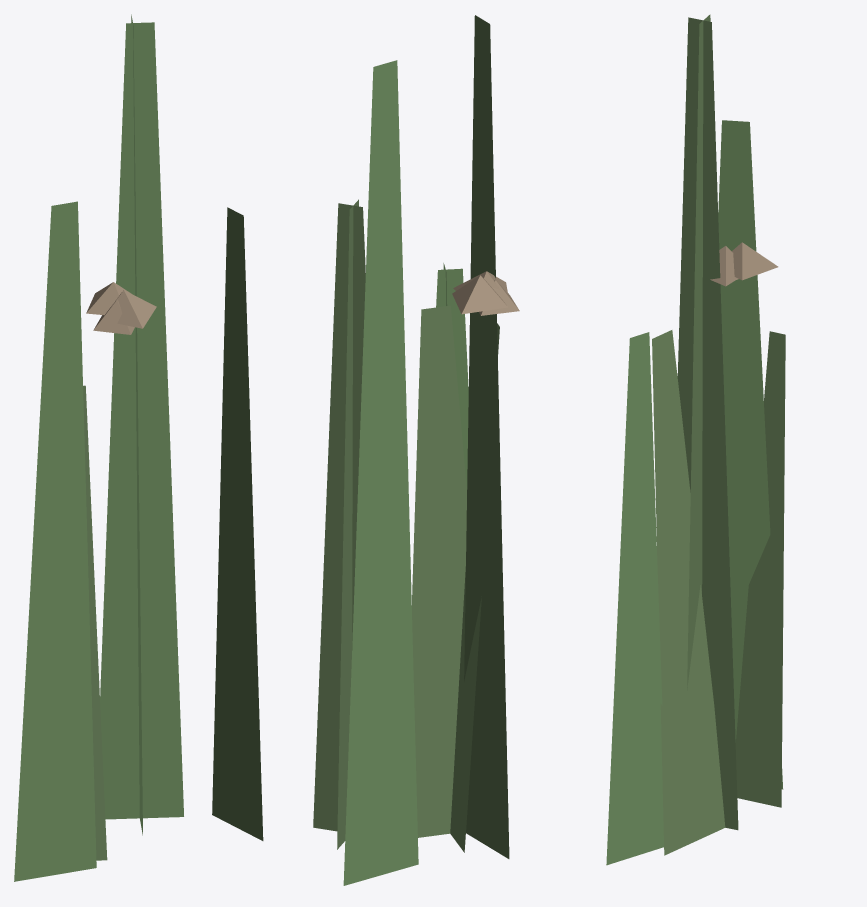
The model's file is water.sub.reed_cattail__summer.glb.
3 views of the same model, side by side, from view 1: azimuth 30°, elevation 25°; view 2: azimuth 150°, elevation 25°; view 3: azimuth 270°, elevation 25° (orthographic). The views are drawn at different scales.
Visible parts, largest first — view 1: water.sub.reed_cattail__summer; view 2: water.sub.reed_cattail__summer; view 3: water.sub.reed_cattail__summer.
Boxes of the visible parts, bbox=[...] form: water.sub.reed_cattail__summer: bbox=[14, 14, 263, 881]; water.sub.reed_cattail__summer: bbox=[313, 15, 519, 885]; water.sub.reed_cattail__summer: bbox=[606, 14, 785, 865].
Bounding box in the file's own units: 0.7483 × 2.25 × 0.6248.
